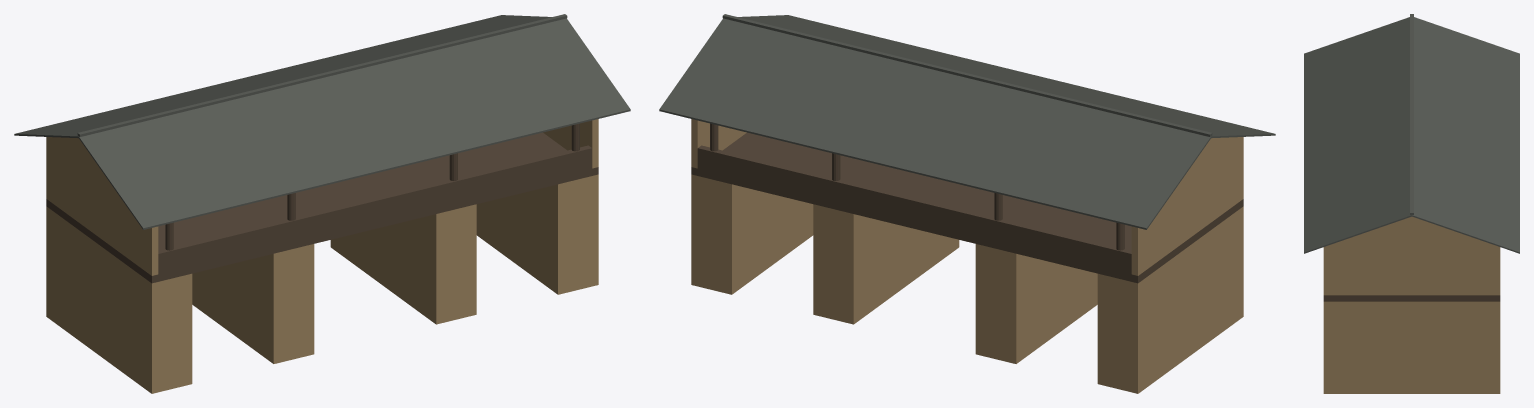
Rendered from gate-B-LOD2.glb.
3 views of the same model, side by side, from view 1: azimuth 30°, elevation 25°; view 2: azimuth 150°, elevation 25°; view 3: azimuth 270°, elevation 25° (orthographic). The views are drawn at different scales.
Visible parts, largest first — view 1: gate-B-static_tile, gate-B-static_earth, gate-B-static_timber; view 2: gate-B-static_tile, gate-B-static_earth, gate-B-static_timber; view 3: gate-B-static_tile, gate-B-static_earth, gate-B-static_timber.
Boxes of the visible parts, x1,y1,x2,y2 form: gate-B-static_tile: [14, 14, 630, 229]; gate-B-static_earth: [46, 119, 598, 393]; gate-B-static_timber: [46, 123, 598, 283]; gate-B-static_tile: [659, 14, 1275, 229]; gate-B-static_earth: [691, 119, 1243, 393]; gate-B-static_timber: [691, 123, 1243, 283]; gate-B-static_tile: [1304, 14, 1519, 253]; gate-B-static_earth: [1323, 216, 1500, 393]; gate-B-static_timber: [1323, 295, 1500, 301].
Size of the model in its own units: 24 by 10.66 by 11.
